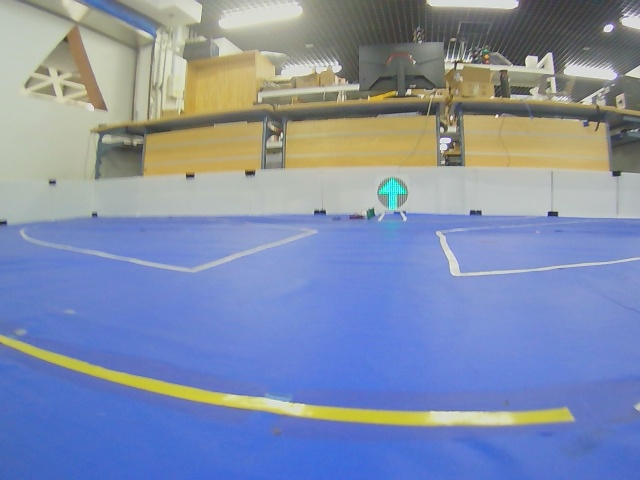straight_green: (378, 177, 408, 210)
